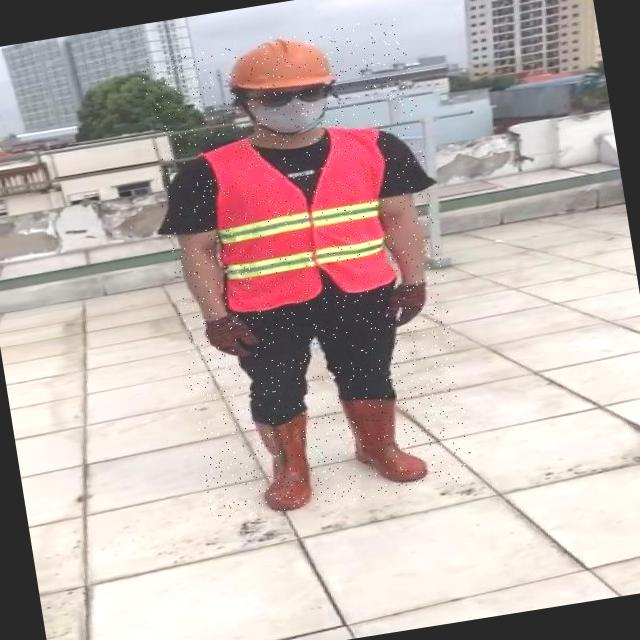boots: (336, 391, 429, 490), (245, 409, 322, 515)
gloves: (200, 290, 267, 370), (378, 265, 451, 335)
helmet: (227, 30, 339, 100)
vest: (199, 120, 404, 318)
